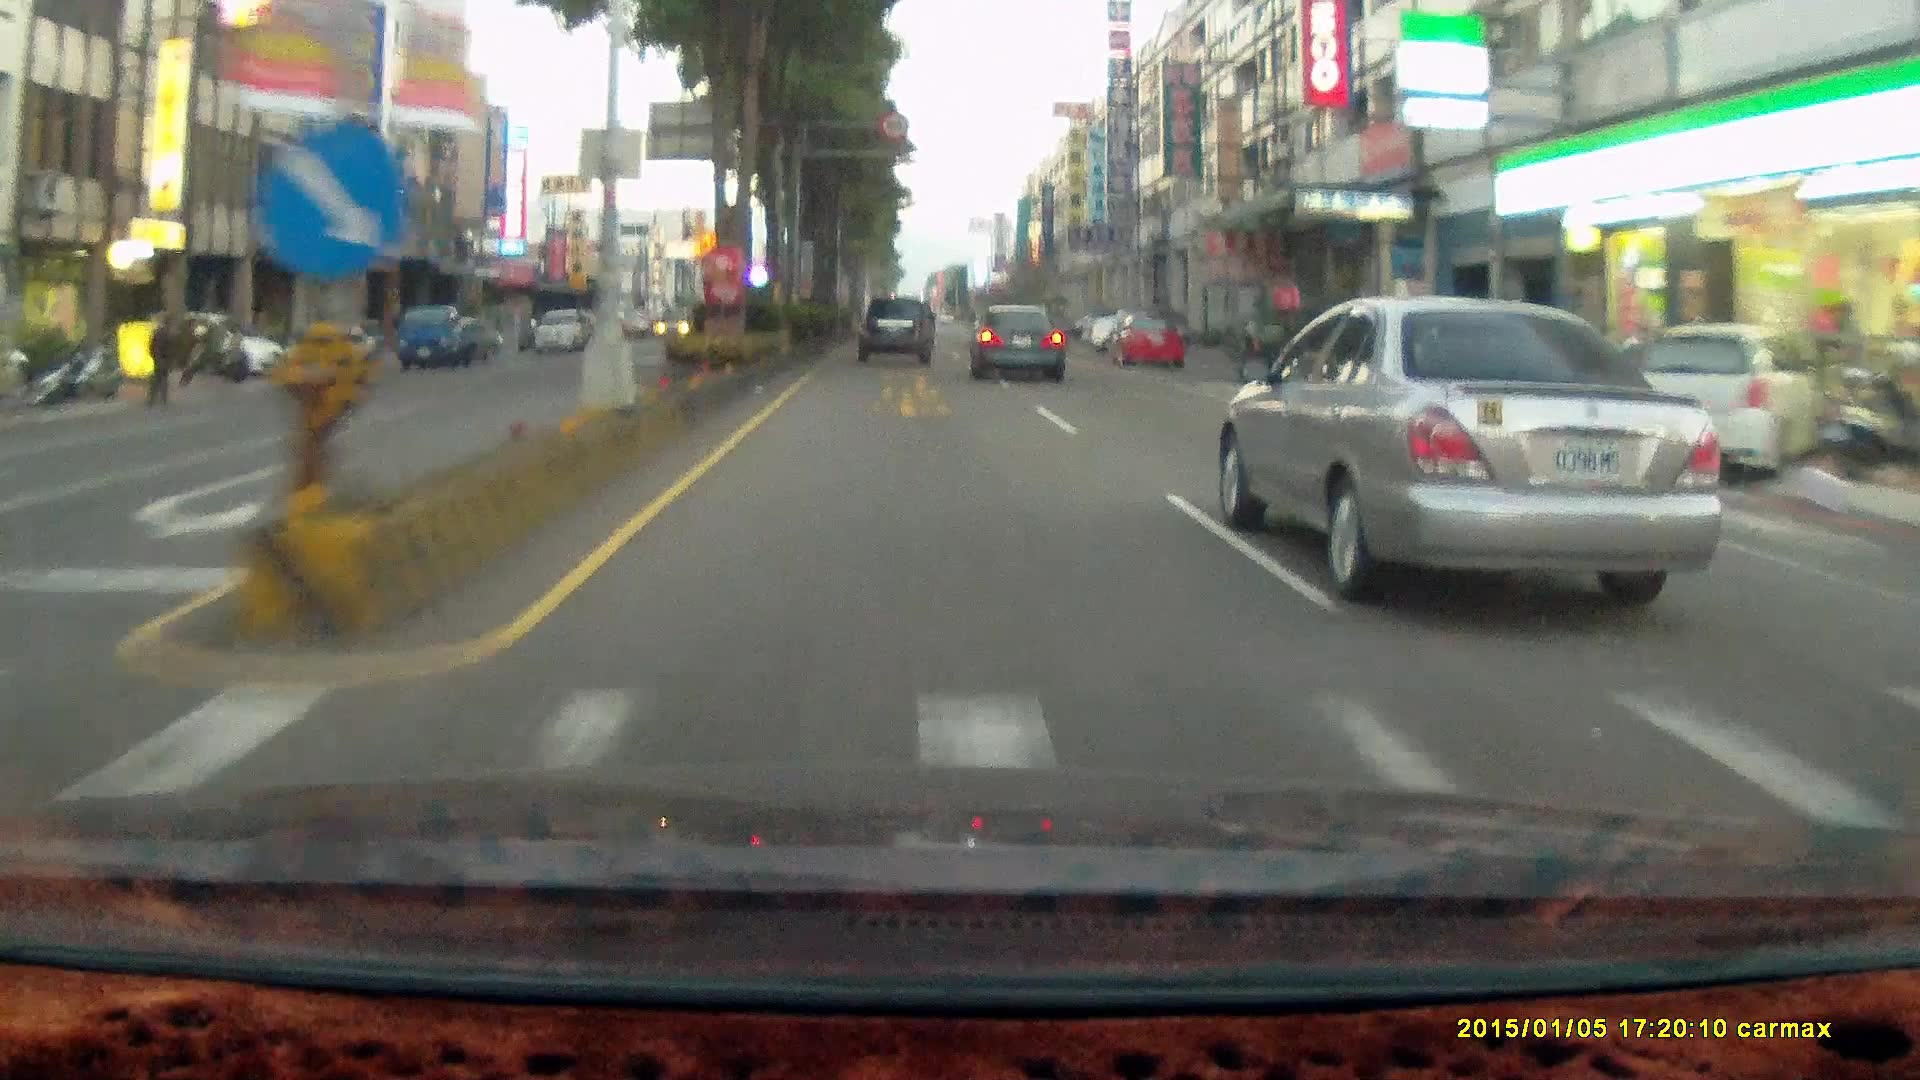pedestrian: (144, 311, 176, 407), (148, 316, 179, 404)
vehicle: (1227, 286, 1731, 584), (1628, 319, 1823, 481), (1405, 316, 1593, 440), (1259, 307, 1423, 387), (1239, 300, 1402, 380), (144, 310, 275, 378), (971, 302, 1069, 383), (967, 306, 1064, 380), (276, 320, 382, 383), (400, 300, 498, 366), (272, 324, 377, 380), (858, 297, 940, 367), (396, 304, 479, 370), (856, 294, 933, 364), (1106, 304, 1193, 367), (1105, 310, 1183, 366), (422, 318, 502, 362), (535, 306, 590, 353)
